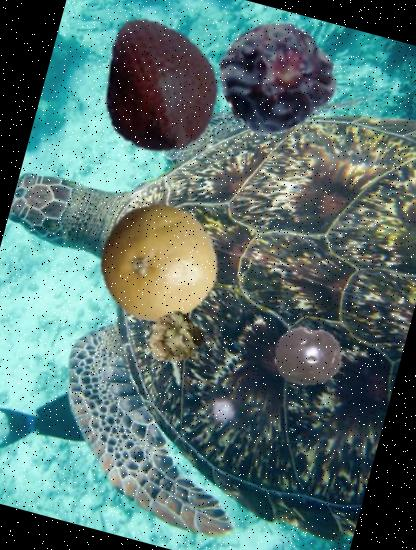Cauliflower: (142, 306, 209, 372)
Dates: (208, 8, 346, 144)
Grapefruit: (86, 188, 234, 336)
Passion: (266, 314, 352, 400)
Salak: (80, 5, 244, 169)
